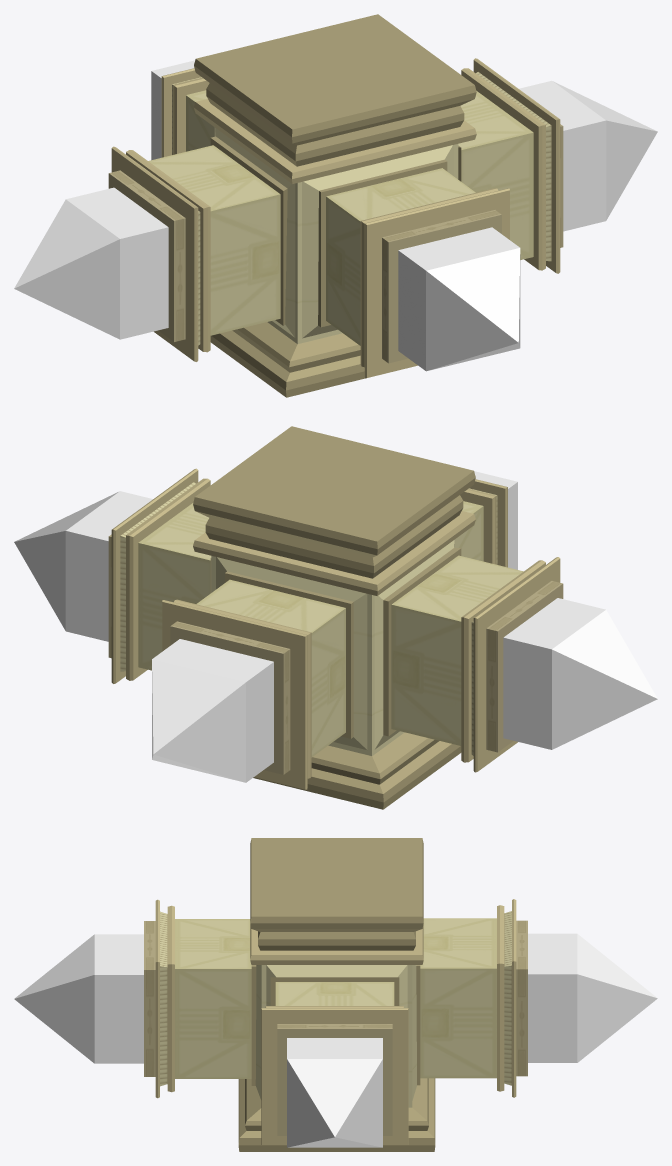
File: Splittprisma_Zusammen.fbx
3 views of the same model, one above another, from view 1: azimuth 30°, elevation 25°; view 2: azimuth 150°, elevation 25°; view 3: azimuth 270°, elevation 25° (orthographic). The views are drawn at different scales.
Parts seen in each view (by area): view 1: Cube_001; view 2: Cube_001; view 3: Cube_001.
Part boxes in pixels (x1,y1,x2,y2): Cube_001: (14, 14, 657, 397); Cube_001: (14, 426, 657, 809); Cube_001: (14, 838, 657, 1151).
Size of the model in its own units: 6.32 by 2.44 by 6.19.
1 material, 1 textured.
